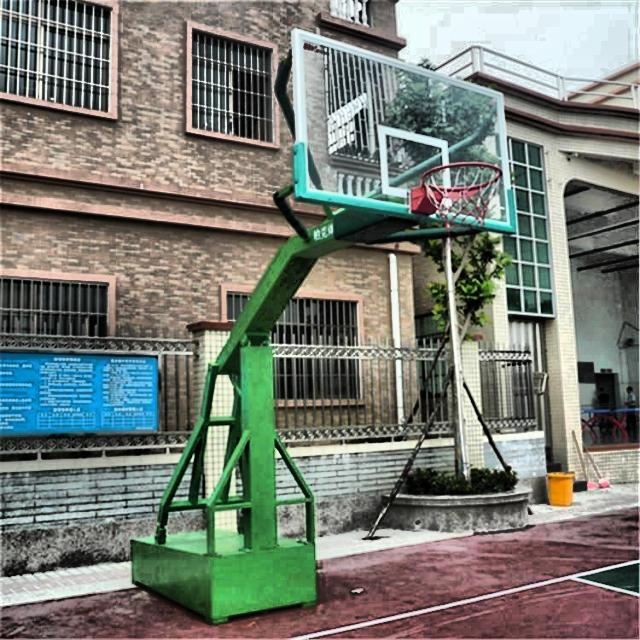rim: (427, 162, 504, 232)
